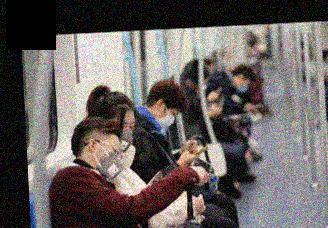with_mask: (98, 141, 124, 180), (117, 119, 137, 153), (156, 109, 180, 129), (237, 79, 253, 93)
